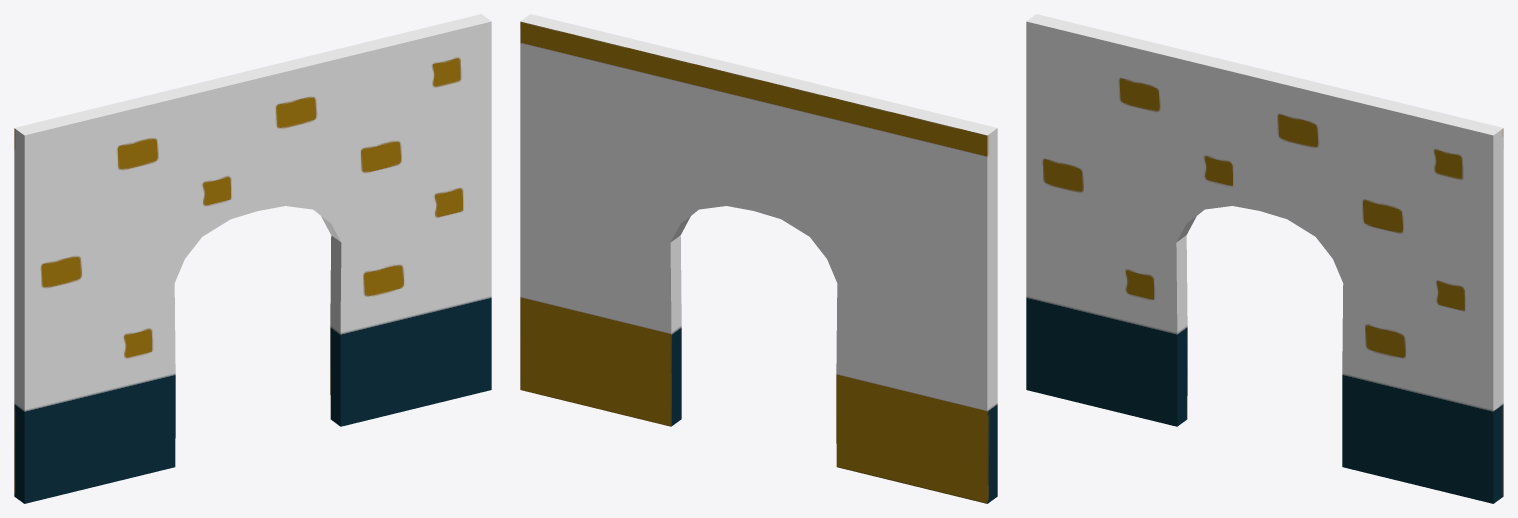
The model's file is KHIP_Middle_Door.FBX.
The picture shows the model from 3 angles, left to right: view 1: azimuth 30°, elevation 25°; view 2: azimuth 150°, elevation 25°; view 3: azimuth 330°, elevation 25°; orthographic projection.
Visible parts, largest first — view 1: KHIP_Middle_Door; view 2: KHIP_Middle_Door; view 3: KHIP_Middle_Door.
Part boxes in pixels (x1,y1,x2,y2): KHIP_Middle_Door: [14, 14, 491, 503]; KHIP_Middle_Door: [520, 14, 997, 503]; KHIP_Middle_Door: [1026, 14, 1503, 503].
Size of the model in its own units: 189 by 142 by 7.17.
